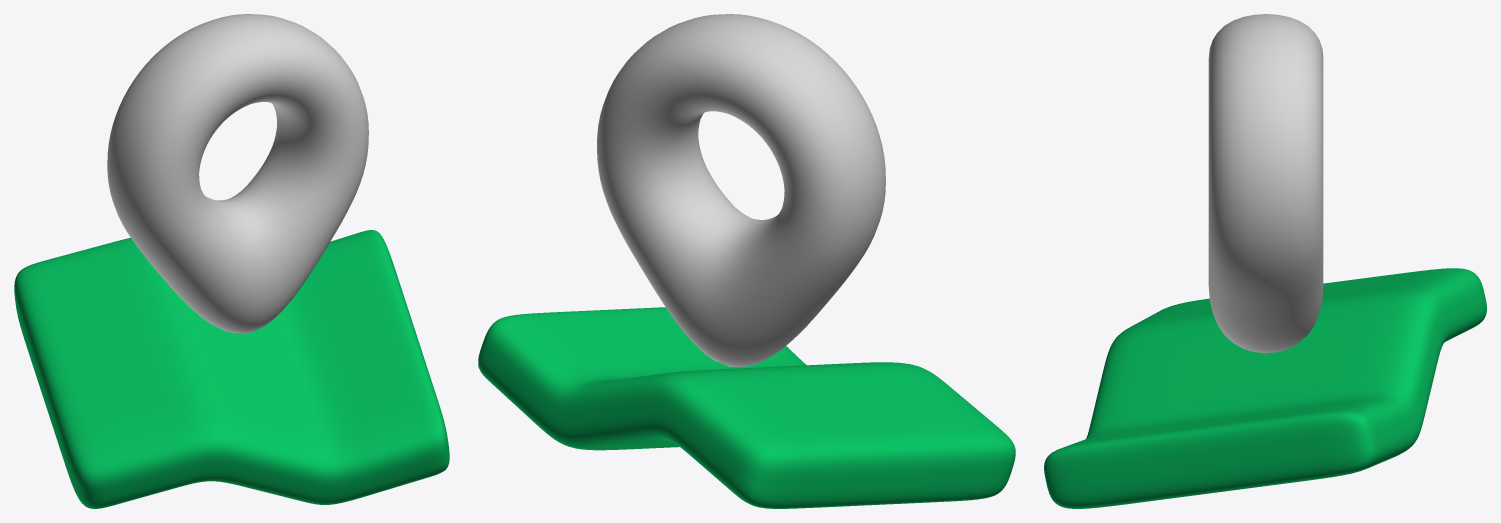
The model's file is location-animated-3d-icon-1229037628253.glb.
The picture shows the model from 3 angles, left to right: view 1: azimuth 30°, elevation 25°; view 2: azimuth 150°, elevation 25°; view 3: azimuth 270°, elevation 25°; orthographic projection. The views are drawn at different scales.
Parts seen in each view (by area): view 1: Map, Location; view 2: Location, Map; view 3: Map, Location.
Part boxes in pixels (left/top/right/bottom): Map: left=14, top=230, right=449, bottom=508; Location: left=107, top=14, right=368, bottom=333; Location: left=597, top=14, right=885, bottom=367; Map: left=478, top=307, right=1015, bottom=508; Map: left=1044, top=268, right=1486, bottom=508; Location: left=1208, top=14, right=1323, bottom=353.
Bounding box in the file's own units: 2.02 × 2.11 × 1.87.
